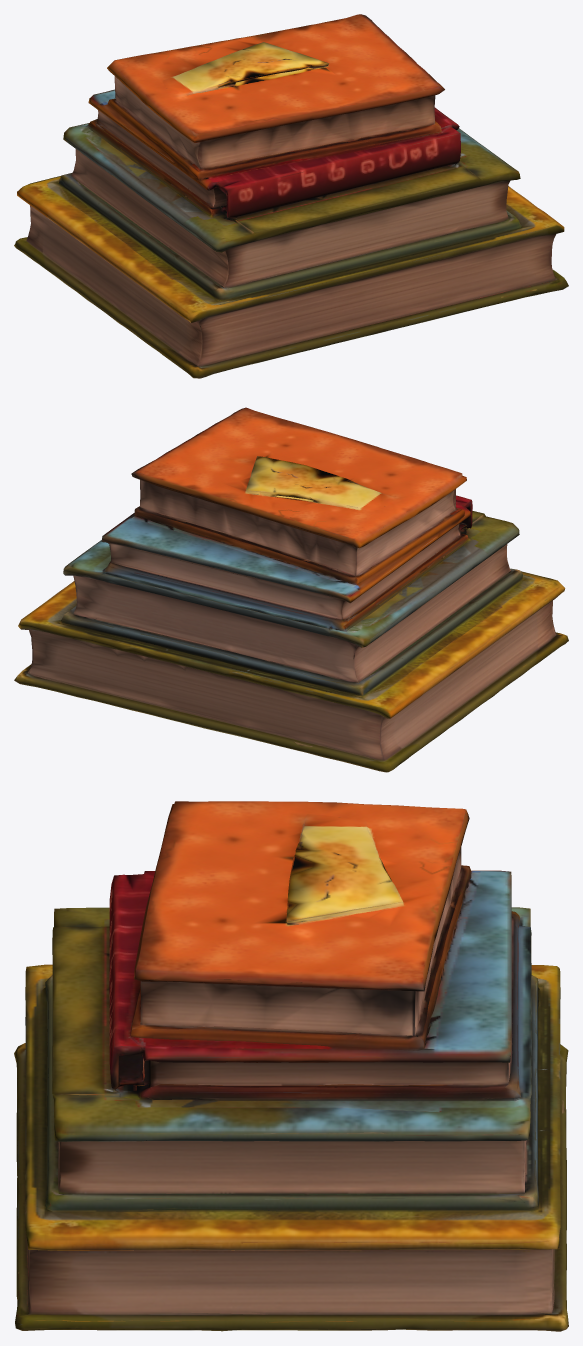
File: Meshy_AI_Timeless_Stories_0108000656_texture.fbx
3 renders of one model, top to bottom at view 1: azimuth 30°, elevation 25°; view 2: azimuth 150°, elevation 25°; view 3: azimuth 270°, elevation 25°, orthographic. The views are drawn at different scales.
Visible parts, largest first — view 1: Mesh_0; view 2: Mesh_0; view 3: Mesh_0.
Part boxes in pixels (x1,y1,x2,y2): Mesh_0: [14, 14, 568, 378]; Mesh_0: [14, 407, 568, 772]; Mesh_0: [14, 801, 568, 1331].
Size of the model in its own units: 191 by 97.77 by 160.
Materials: 1 (1 with a texture image).
